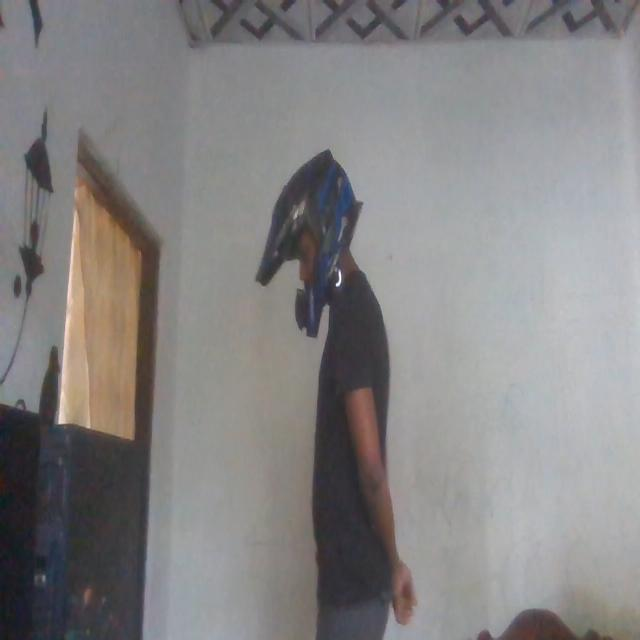Helmet_Wearer: (254, 150, 376, 324)
Person: (252, 143, 423, 639)
